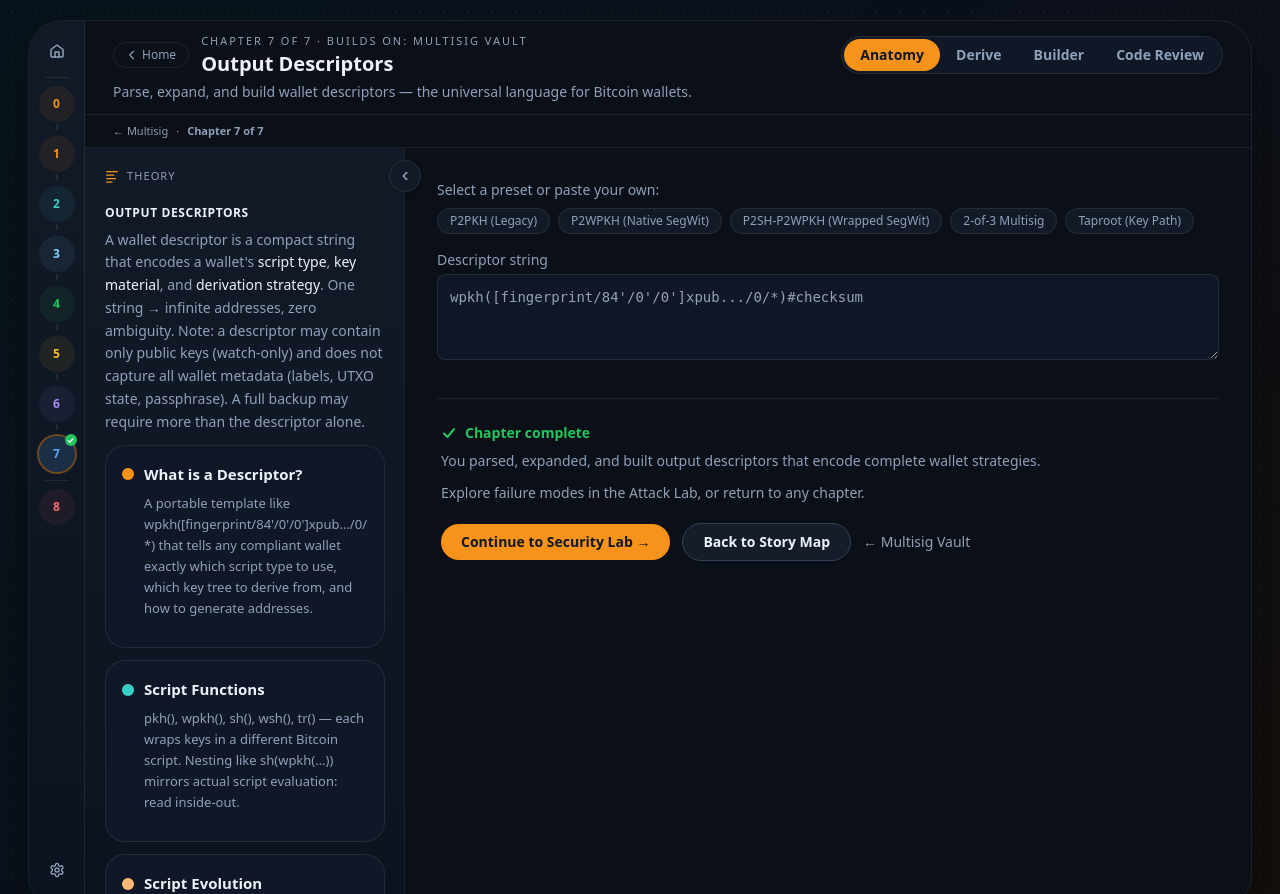
Test: OutputDescriptors › AC5: clicking a segment shows explanation card
Click the button "P2WPKH (Native SegWit)".
click(640, 221)  # box [558,208,722,234]
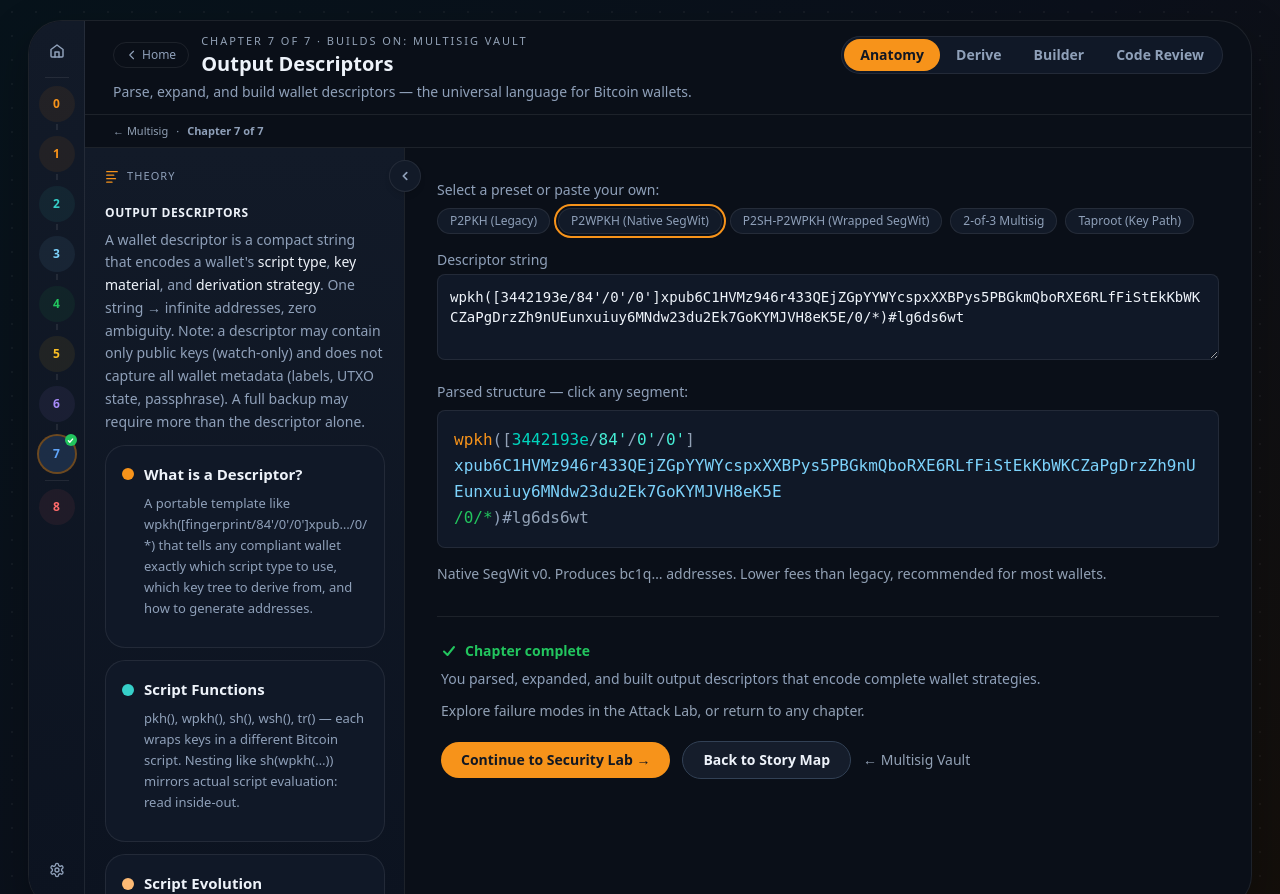
Expected: the text "Parsed structure — click any segment:" is shown, [437,382,688,401]
Click the button with aria-label "Script type function".
click(473, 440)  # box [454,427,492,453]
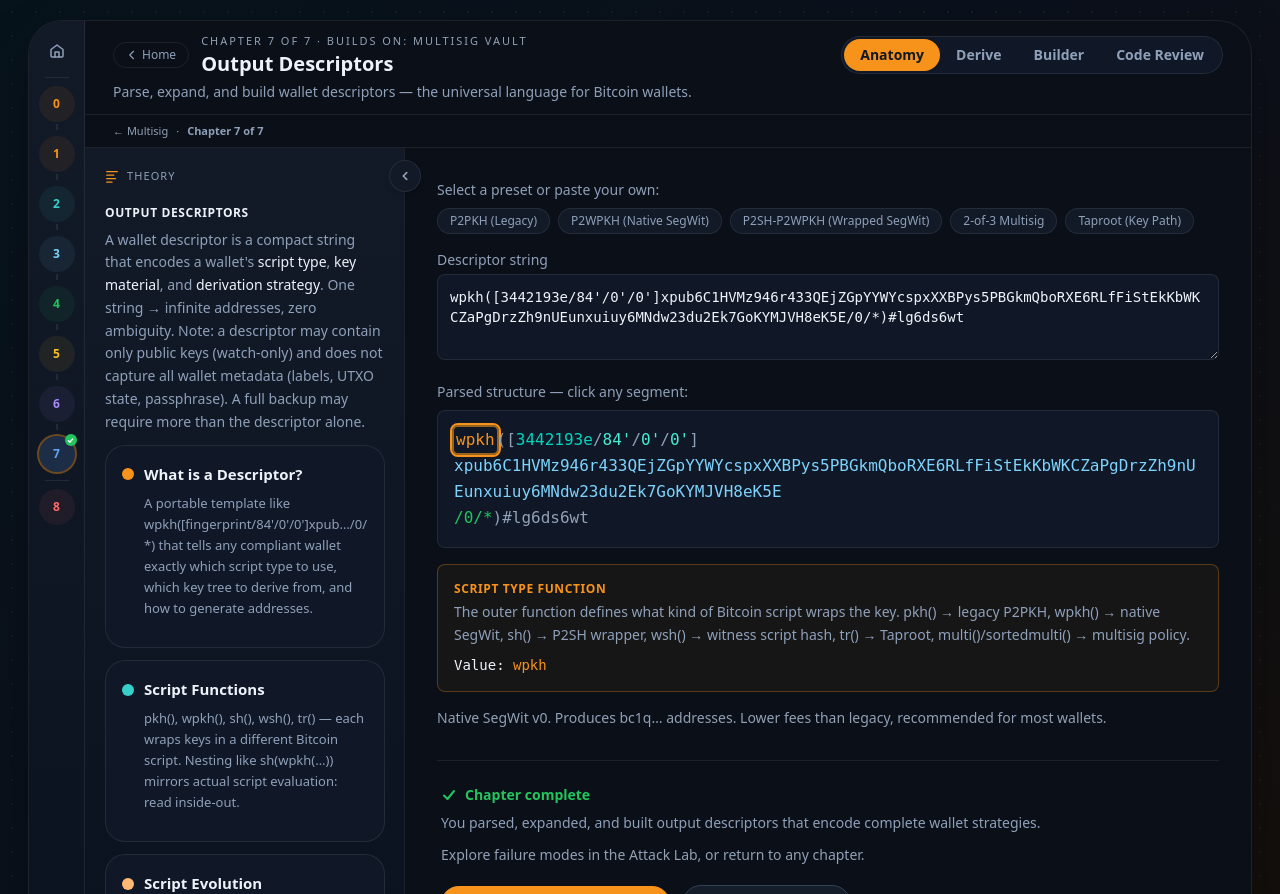
Expected: the text "Script Type Function" is shown, [454,580,606,597]
